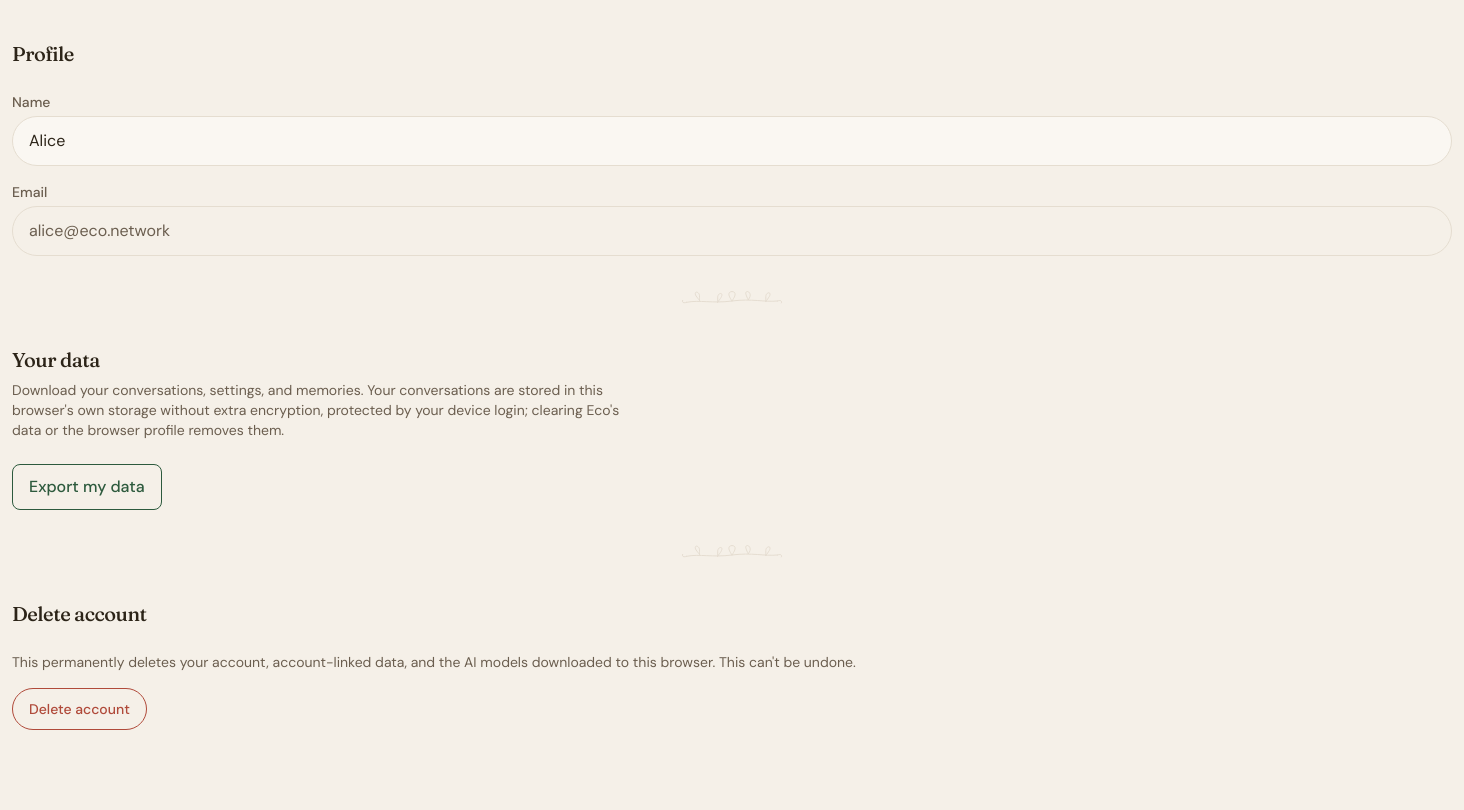
Test: AccountTab › shows error when profile save fails
Replace the text in the field showing "Alice" with "Bob" at (732, 141), box [12, 116, 1452, 166]
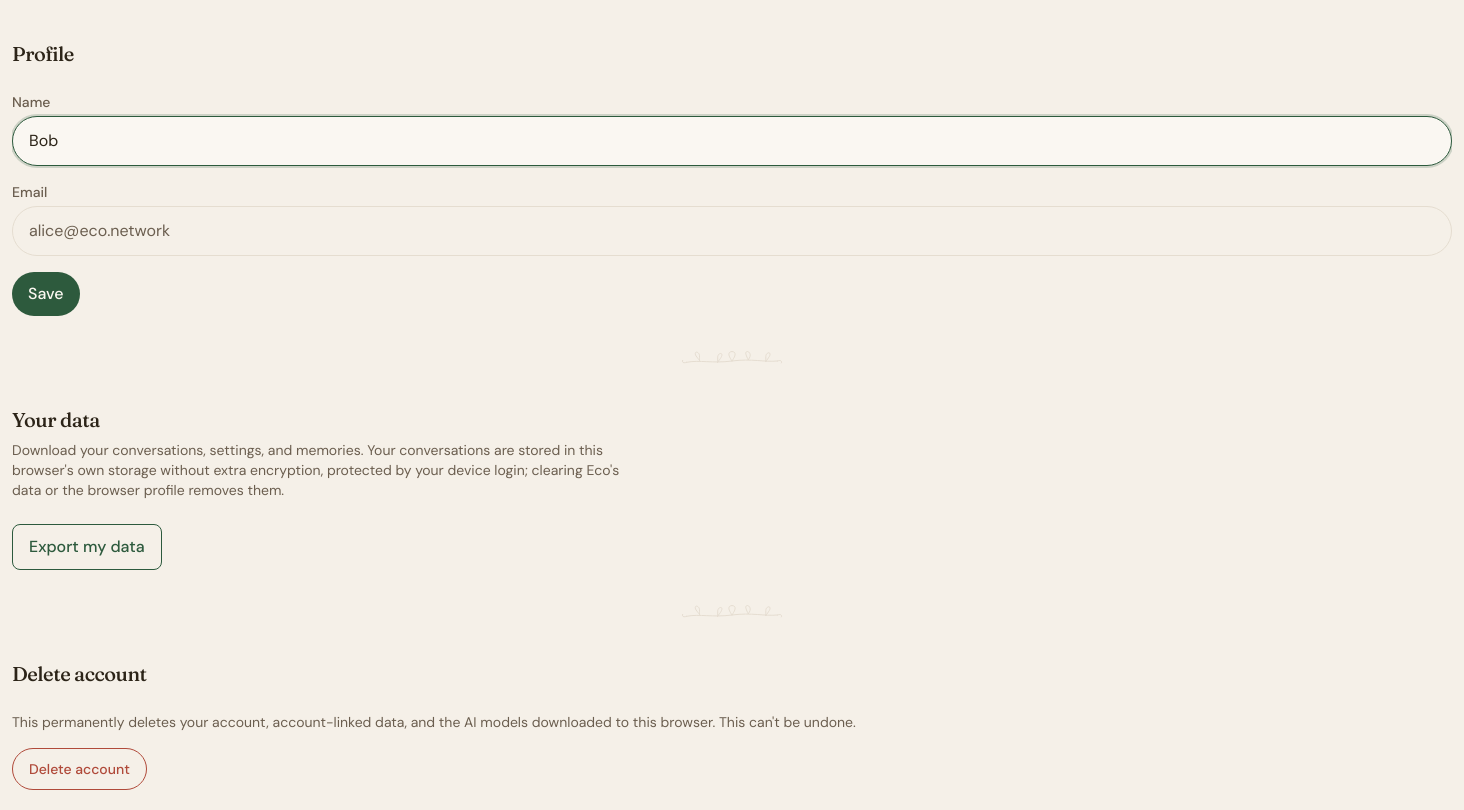
Click the button "Save" at (46, 294), box [12, 272, 80, 316]
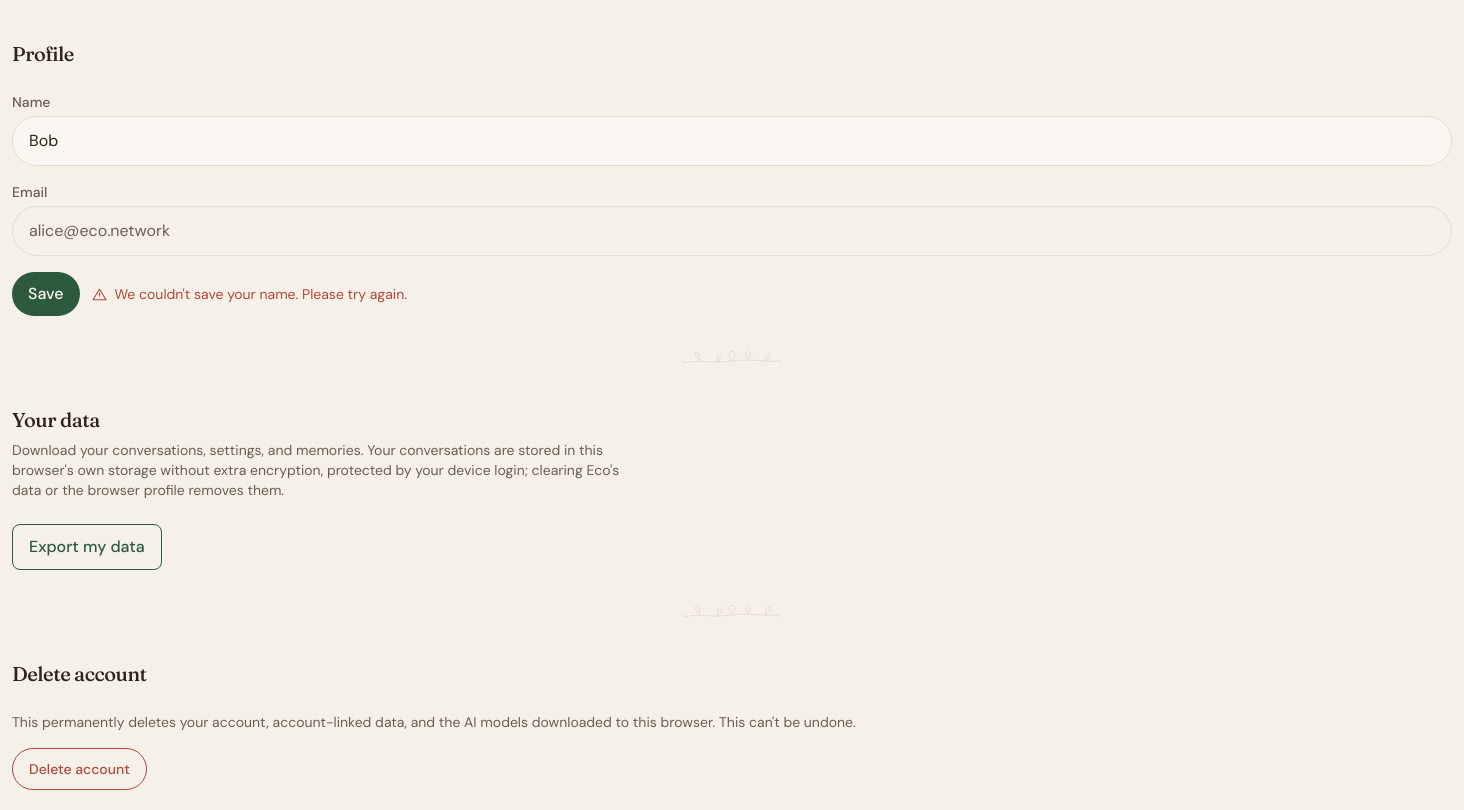
Result: the text "We couldn't save your name. Please try again." is shown at [114, 284, 407, 304]
